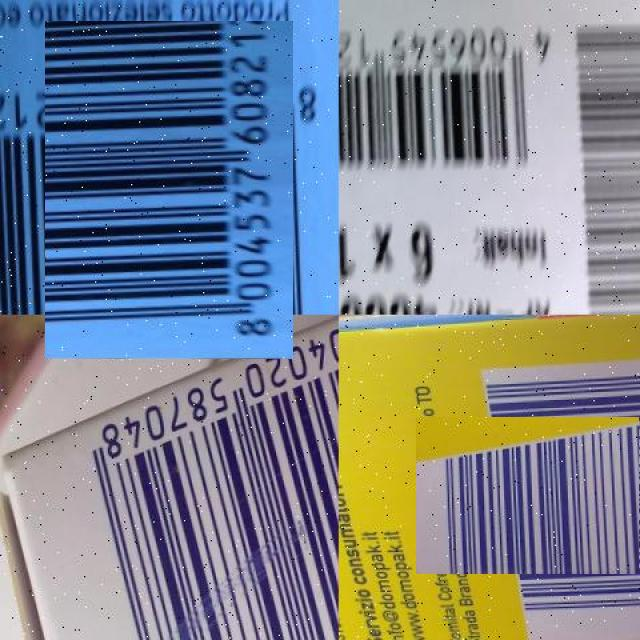Barcode: (73, 315, 338, 640), (23, 44, 316, 337), (338, 1, 570, 203), (449, 384, 640, 608)
